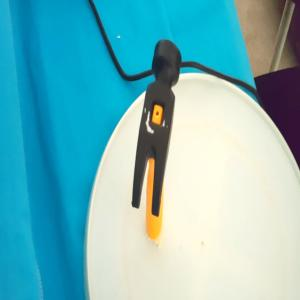martelo: (131, 37, 183, 241)
